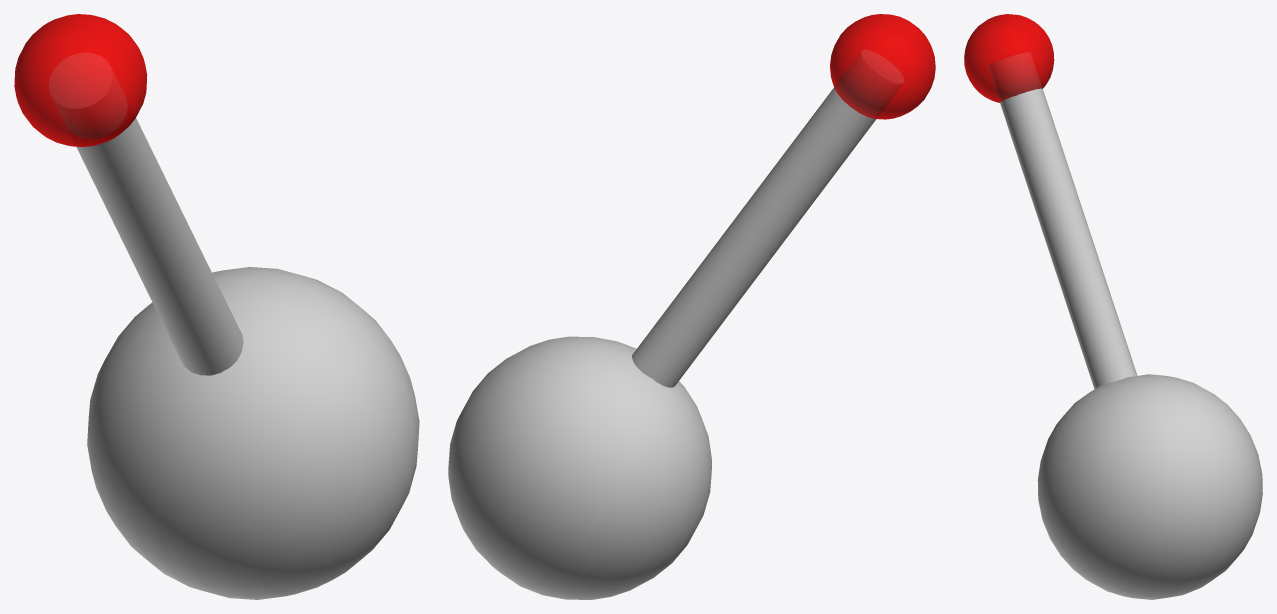
The model's file is joystick.obj.
The picture shows the model from 3 angles, left to right: view 1: azimuth 30°, elevation 25°; view 2: azimuth 150°, elevation 25°; view 3: azimuth 270°, elevation 25°; orthographic projection. The views are drawn at different scales.
Size of the model in its own units: 0.7858 by 1.11 by 0.6275.
